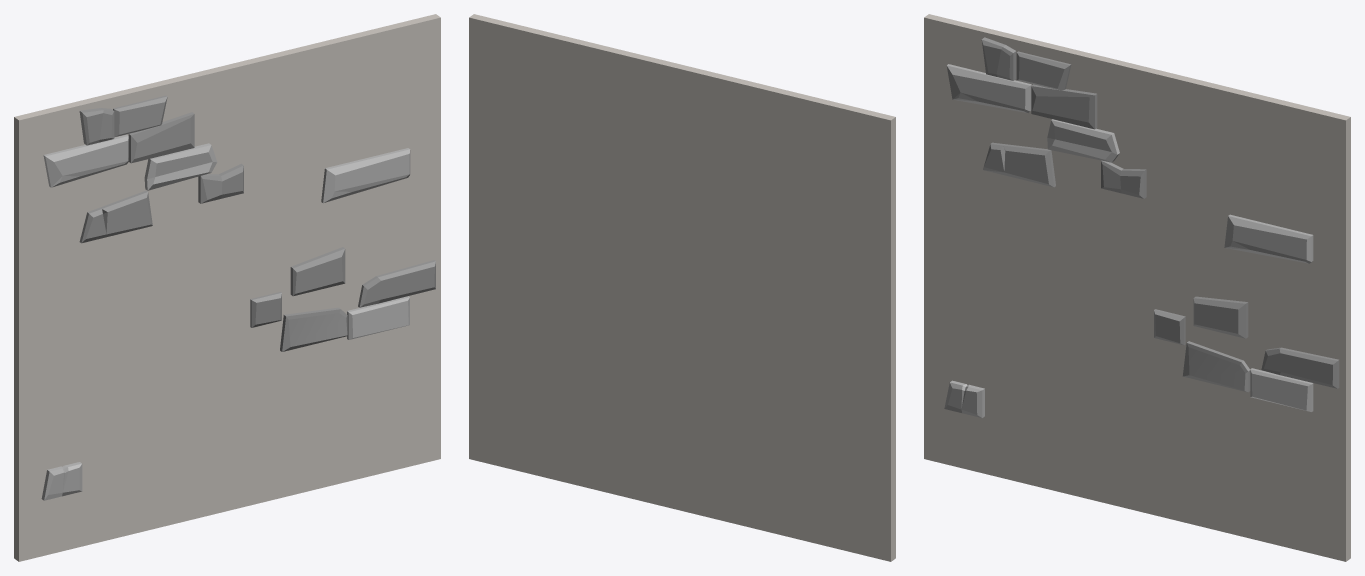
File: _WALL_01_1.fbx
The picture shows the model from 3 angles, left to right: view 1: azimuth 30°, elevation 25°; view 2: azimuth 150°, elevation 25°; view 3: azimuth 330°, elevation 25°; orthographic projection.
Parts seen in each view (by area): view 1: WALL_01_1; view 2: WALL_01_1; view 3: WALL_01_1.
Boxes of the visible parts, <box> form: WALL_01_1: <box>14,14,440,561</box>; WALL_01_1: <box>469,14,895,561</box>; WALL_01_1: <box>924,14,1350,561</box>.
Bounding box in the file's own units: 300 × 300 × 12.
